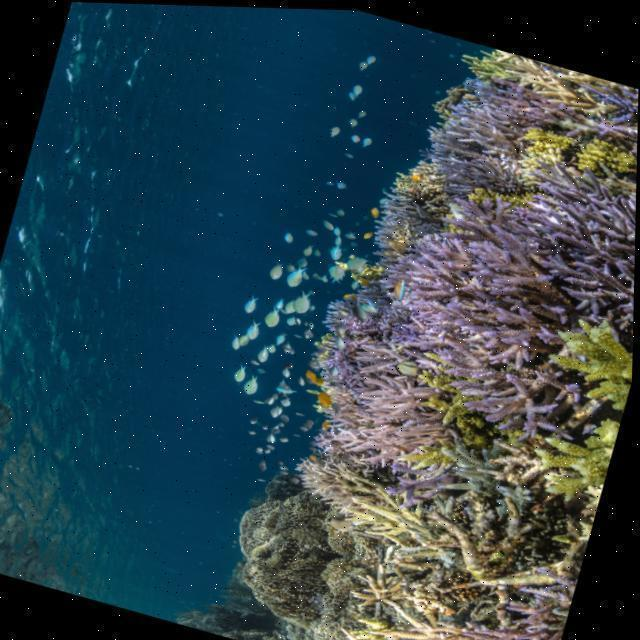Healthy Coral: (251, 23, 640, 640)
